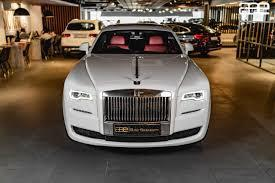non-ambulance: (63, 24, 210, 146), (165, 23, 221, 53), (61, 19, 102, 53)
